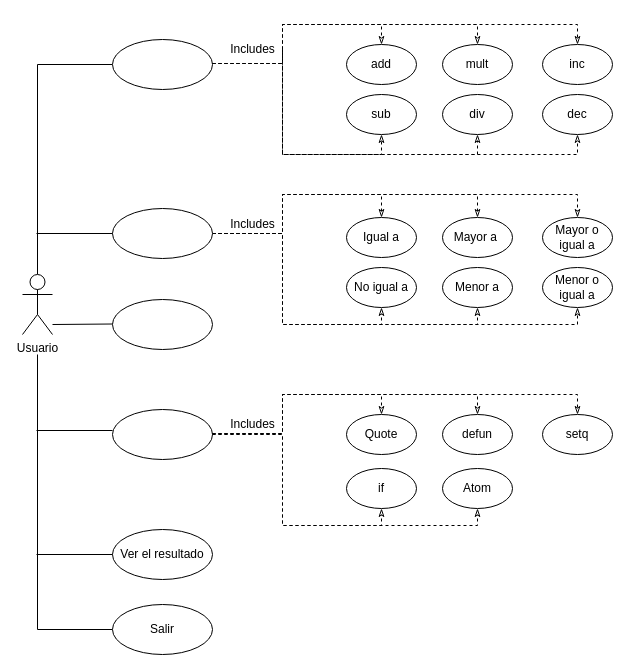
Image size: 630x672. Some labels were removed from this diagram. Each missing label, with the centre of its shape:
Definir funciones: the point at 162,324
Realizar operaciones lógicas: the point at 162,233
Realizar operación aritmética: the point at 162,64
Usar funciones especiales LISP: the point at 162,434
